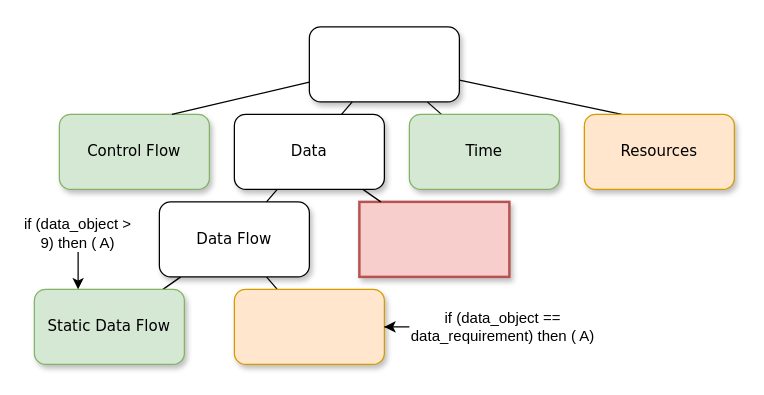
Some shapes in this 764 by 395 pixel diagram are drawn without their labels. Each missing label, with the centre of its shape:
"Data Quality" goes at point (435, 240).
"Dynamic Data Flow" goes at point (310, 328).
"Requirements" goes at point (385, 66).
